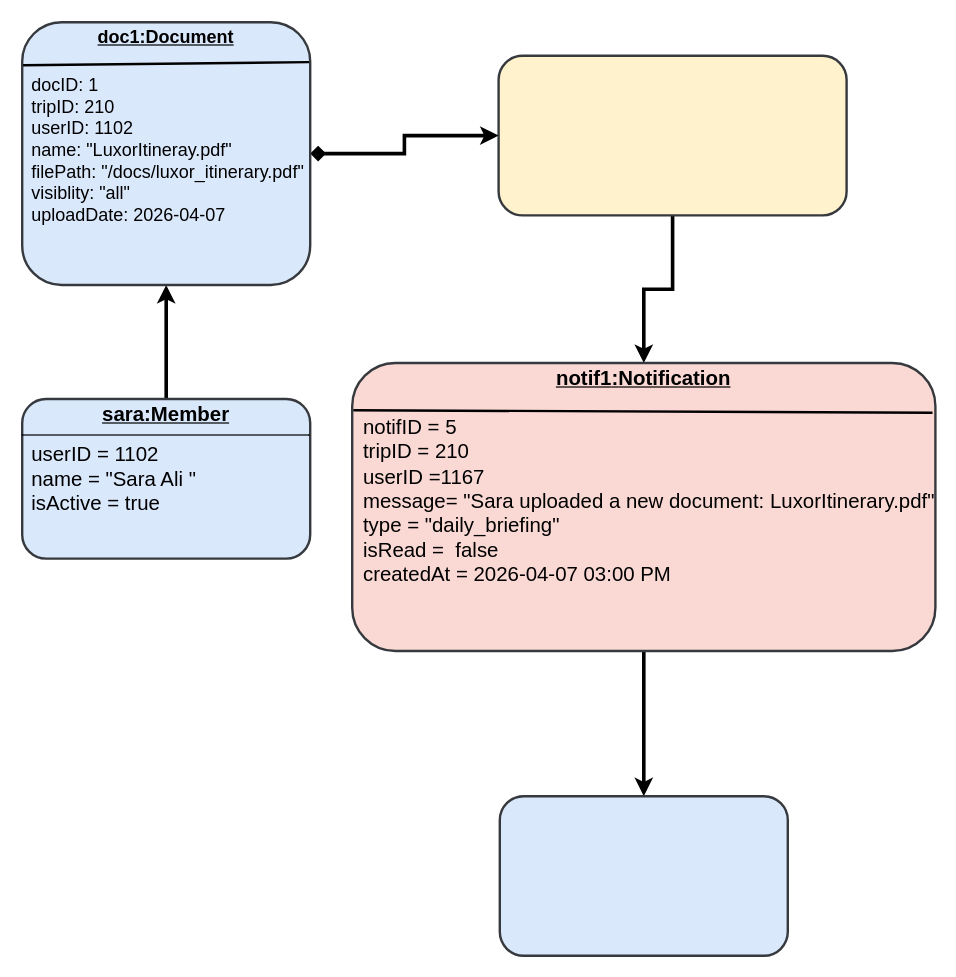
Some shapes in this 956 by 977 pixel diagram are drawn without their labels. Here are the shapes that lost their labels. From the top down, the box of each, then its label:
(497, 54, 847, 216): luxorTrip:Trip tripID = 210 destination = "Luxor" status = "Active"
(498, 794, 788, 956): omar:Member userID = 1167 name = "Omar Amr " isActive = true
